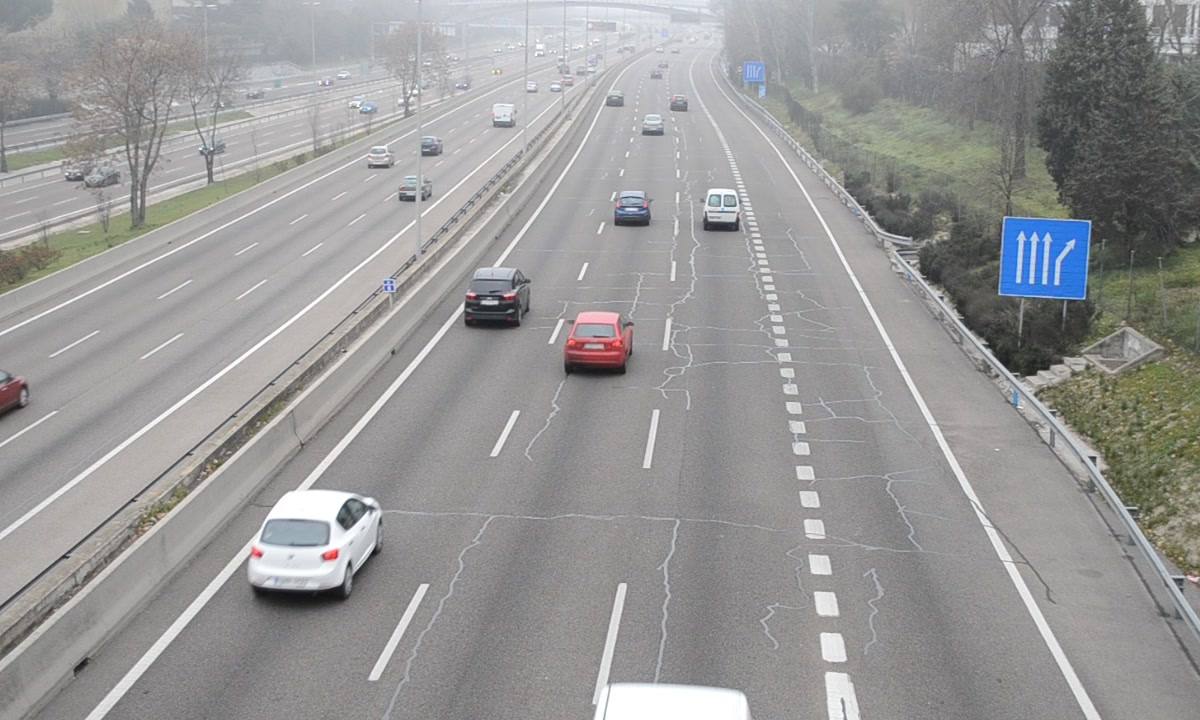car: (245, 492, 384, 590), (565, 311, 632, 367), (463, 268, 529, 324), (614, 191, 648, 226), (643, 114, 666, 136)
van: (703, 188, 741, 230)
